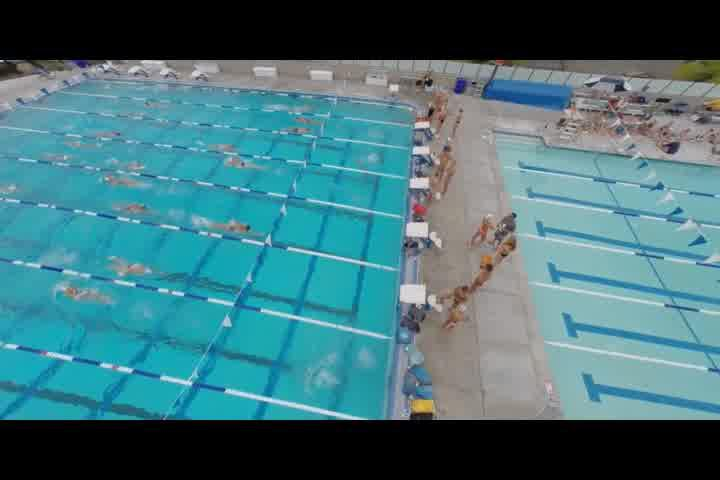human: (61, 285, 112, 310), (104, 260, 150, 280), (204, 216, 256, 233)
